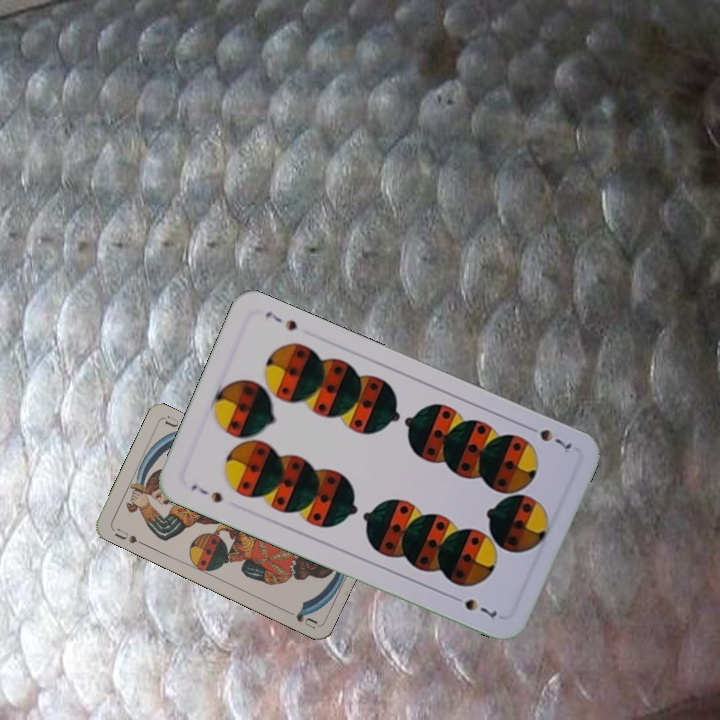S7: (521, 421, 574, 454), (187, 480, 225, 506)
SU: (110, 524, 147, 547)
